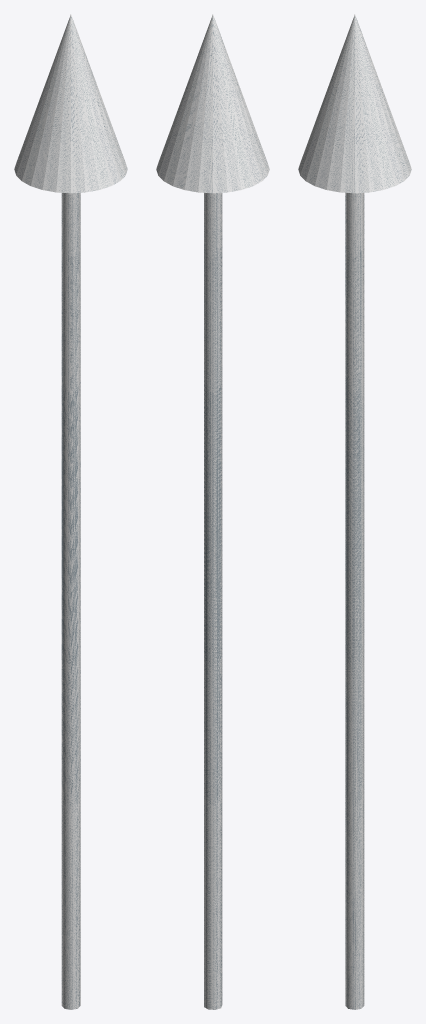
Rendered from arrow2.fbx.
3 views of the same model, side by side, from view 1: azimuth 90°, elevation 25°; view 2: azimuth 150°, elevation 25°; view 3: azimuth 270°, elevation 25° (orthographic).
Parts seen in each view (by area): view 1: Model; view 2: Model; view 3: Model.
Boxes of the visible parts, <box> form: Model: <box>14,14,127,1009</box>; Model: <box>156,14,269,1009</box>; Model: <box>298,14,411,1009</box>.
Bounding box in the file's own units: 0.2586 × 2.49 × 0.2586.
